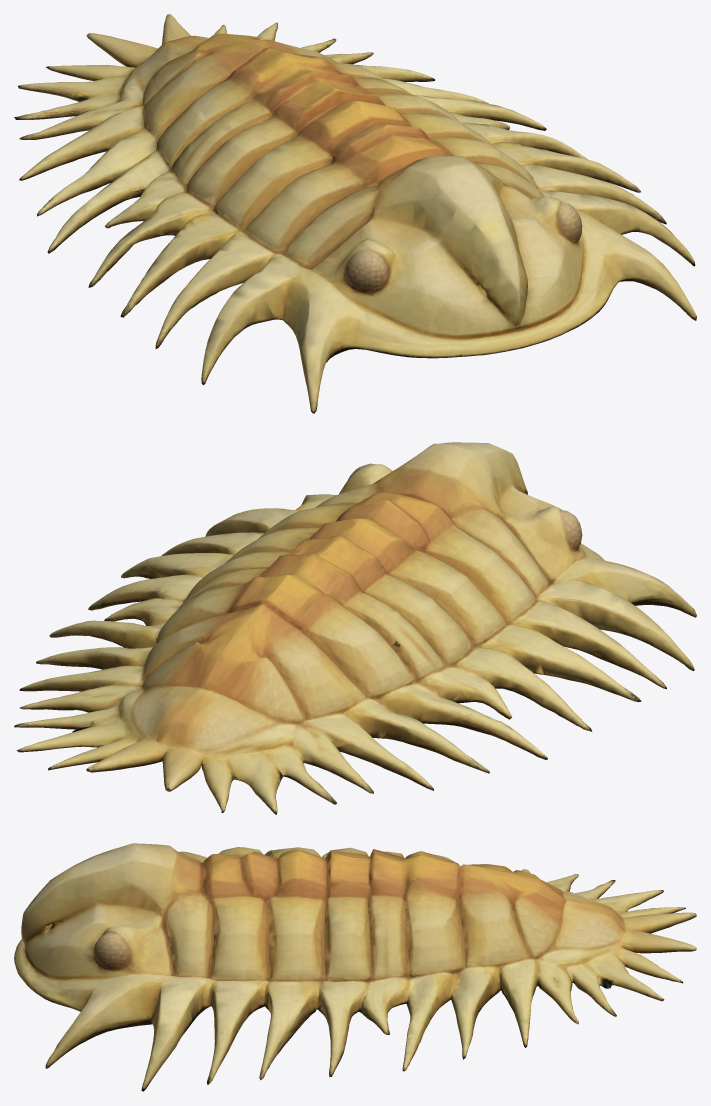
The picture shows the model from 3 angles, top to bottom: view 1: azimuth 30°, elevation 25°; view 2: azimuth 150°, elevation 25°; view 3: azimuth 270°, elevation 25°; orthographic projection. The views are drawn at different scales.
Parts seen in each view (by area): view 1: world; view 2: world; view 3: world.
Boxes of the visible parts, x1,y1,x2,y2 form: world: (14,14,696,413); world: (14,442,696,814); world: (14,843,696,1091).
Bounding box in the file's own units: 0.0342 × 0.0102 × 0.045.
Materials: 1 (1 with a texture image).
